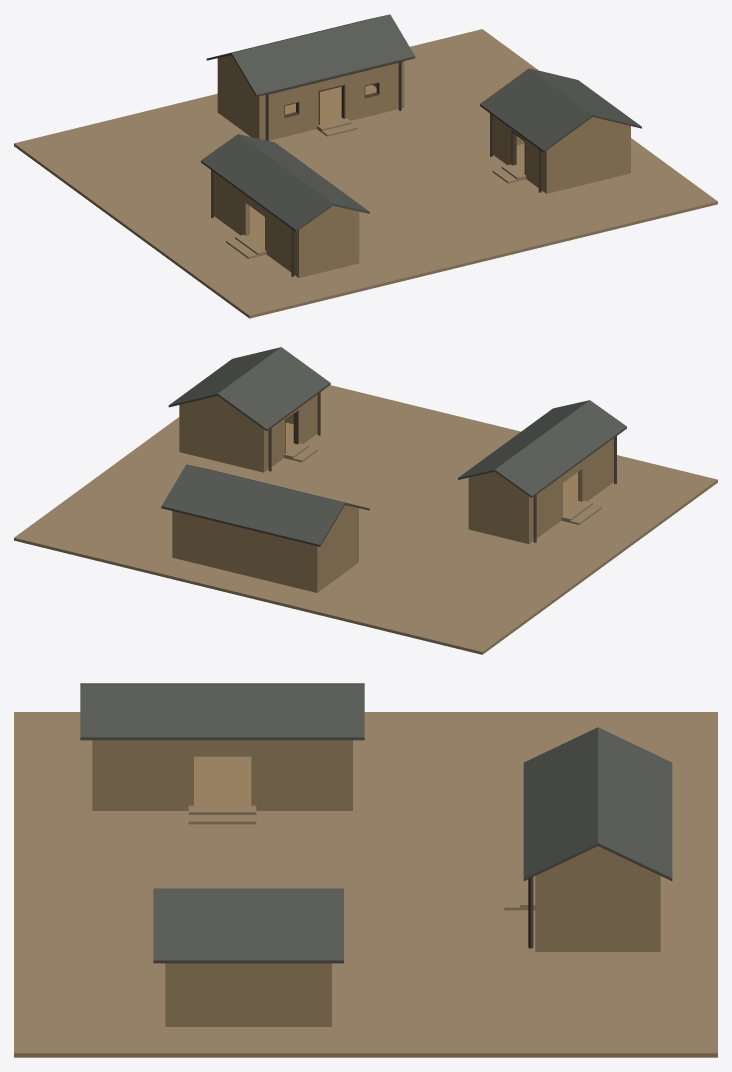
Rendered from z09-civic-B-LOD2.glb.
3 renders of one model, top to bottom at view 1: azimuth 30°, elevation 25°; view 2: azimuth 150°, elevation 25°; view 3: azimuth 270°, elevation 25°, orthographic. The views are drawn at different scales.
Parts seen in each view (by area): view 1: Z09_batched_Z09_NEW_court_and_steps, Z09_batched_LY_P01_earth__FLAT, Z09_batched_LY_P01_tile__FLAT, Z09_batched_LY_P01_timber__FLAT; view 2: Z09_batched_Z09_NEW_court_and_steps, Z09_batched_LY_P01_earth__FLAT, Z09_batched_LY_P01_tile__FLAT, Z09_batched_LY_P01_timber__FLAT; view 3: Z09_batched_Z09_NEW_court_and_steps, Z09_batched_LY_P01_tile__FLAT, Z09_batched_LY_P01_earth__FLAT, Z09_batched_LY_P01_timber__FLAT.
Part boxes in pixels (box(x1,y1,x2,y2)): Z09_batched_Z09_NEW_court_and_steps: box(14, 29, 717, 318); Z09_batched_LY_P01_earth__FLAT: box(214, 55, 630, 277); Z09_batched_LY_P01_tile__FLAT: box(201, 14, 641, 231); Z09_batched_LY_P01_timber__FLAT: box(206, 54, 641, 276); Z09_batched_Z09_NEW_court_and_steps: box(14, 385, 717, 654); Z09_batched_LY_P01_earth__FLAT: box(172, 394, 613, 592); Z09_batched_LY_P01_tile__FLAT: box(161, 347, 626, 545); Z09_batched_LY_P01_timber__FLAT: box(161, 384, 616, 546); Z09_batched_Z09_NEW_court_and_steps: box(14, 712, 717, 1057); Z09_batched_LY_P01_tile__FLAT: box(80, 683, 672, 961); Z09_batched_LY_P01_earth__FLAT: box(92, 740, 660, 1026); Z09_batched_LY_P01_timber__FLAT: box(153, 844, 672, 963).
Bounding box in the file's own units: 31 × 5.01 × 27.
